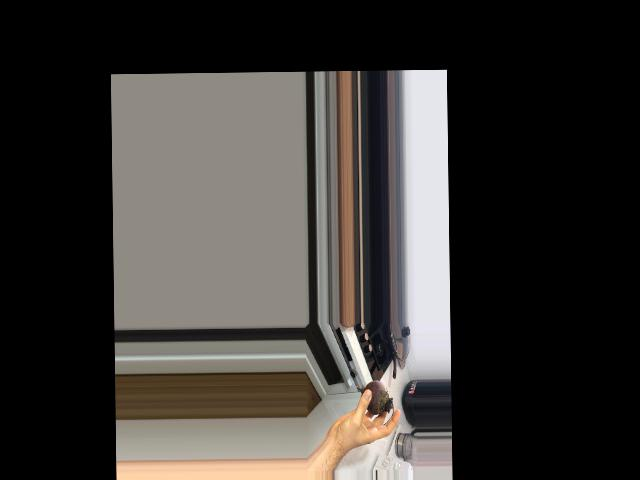beet: (355, 380, 393, 424)
